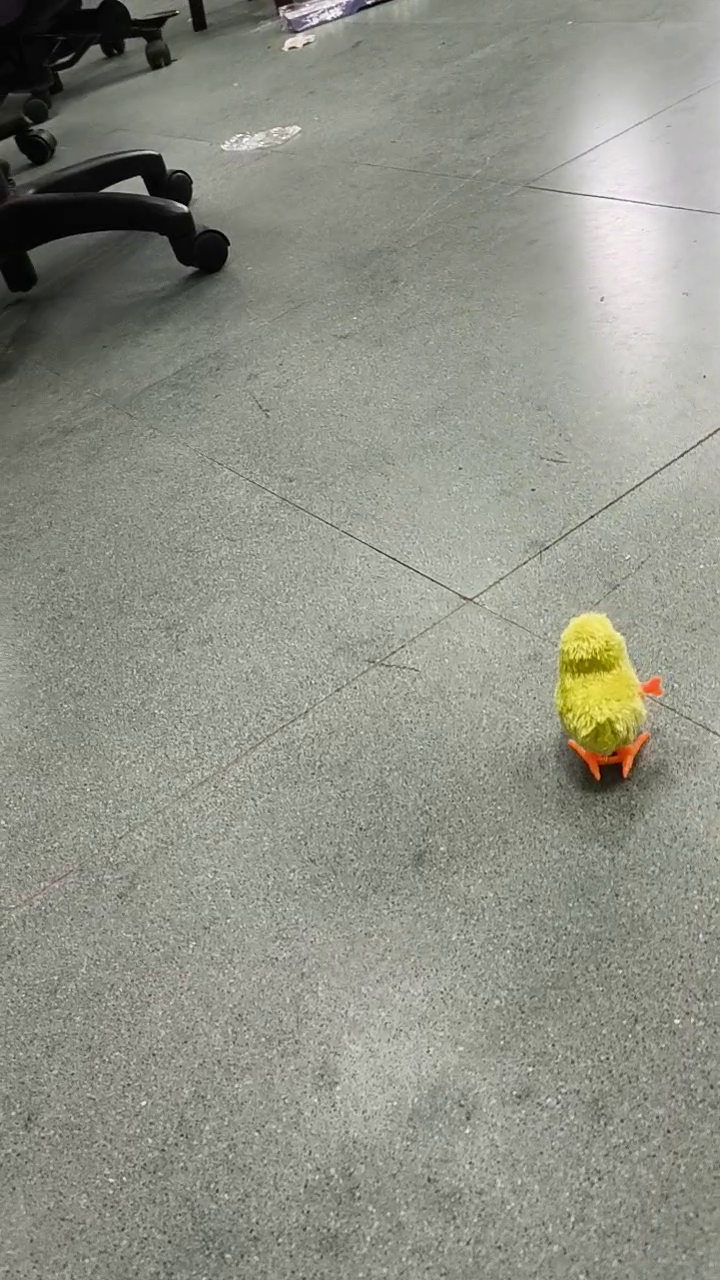yellow chicken: (552, 607, 655, 782)
